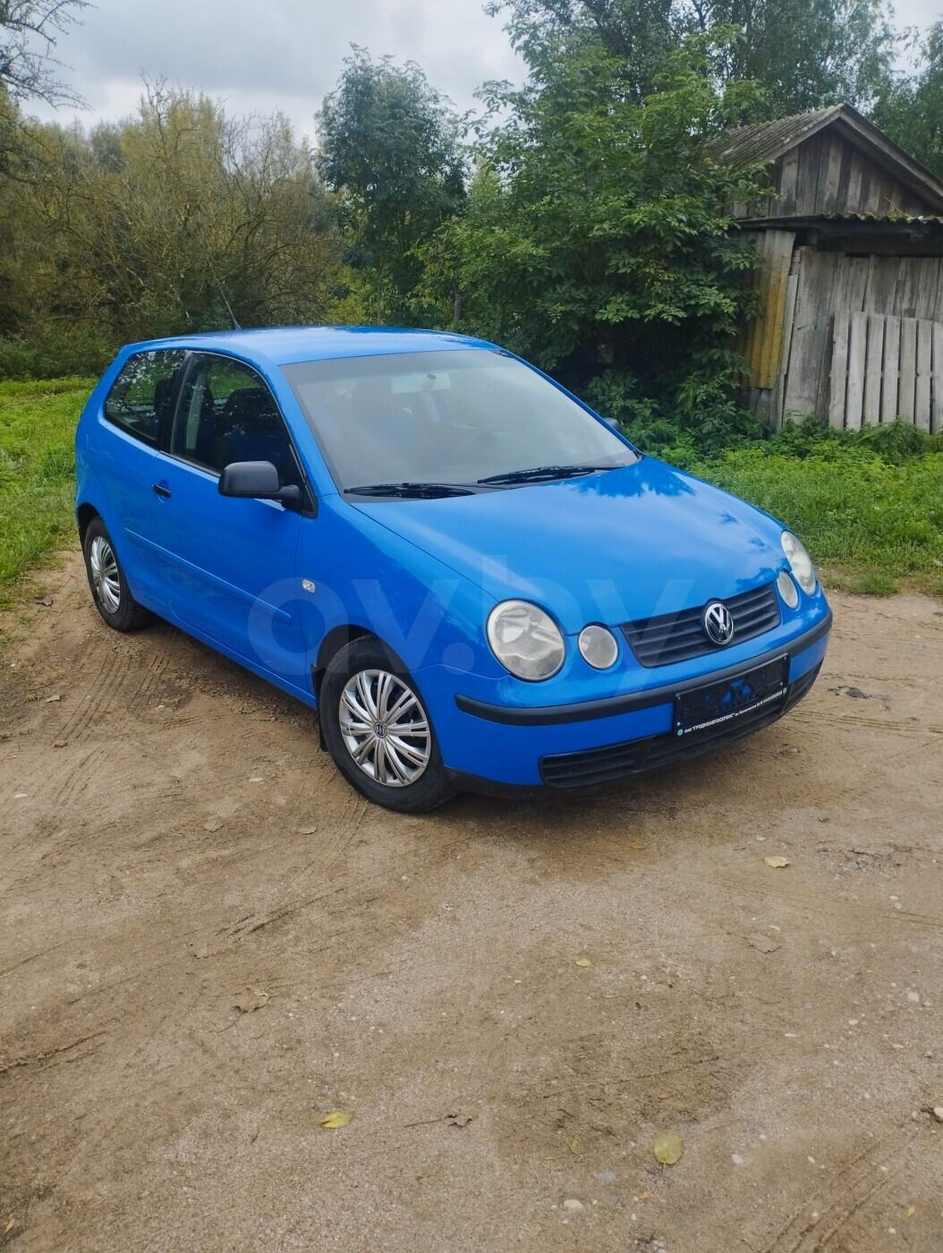Polo_2001-2005: (60, 300, 824, 848)
